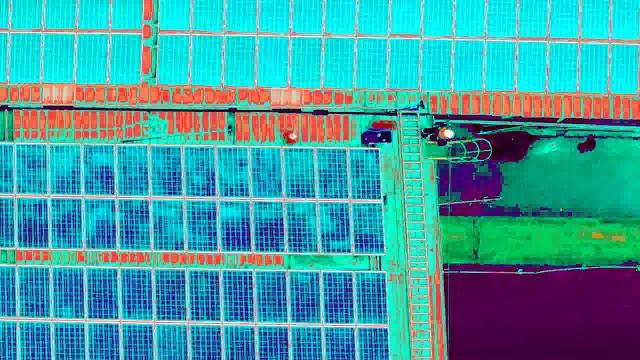dirty: (158, 2, 640, 93), (2, 3, 143, 85)
semi: (1, 142, 384, 250), (4, 267, 390, 360)
